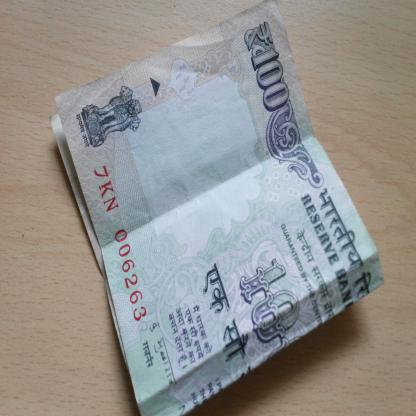Old100Front: (50, 0, 386, 416)
